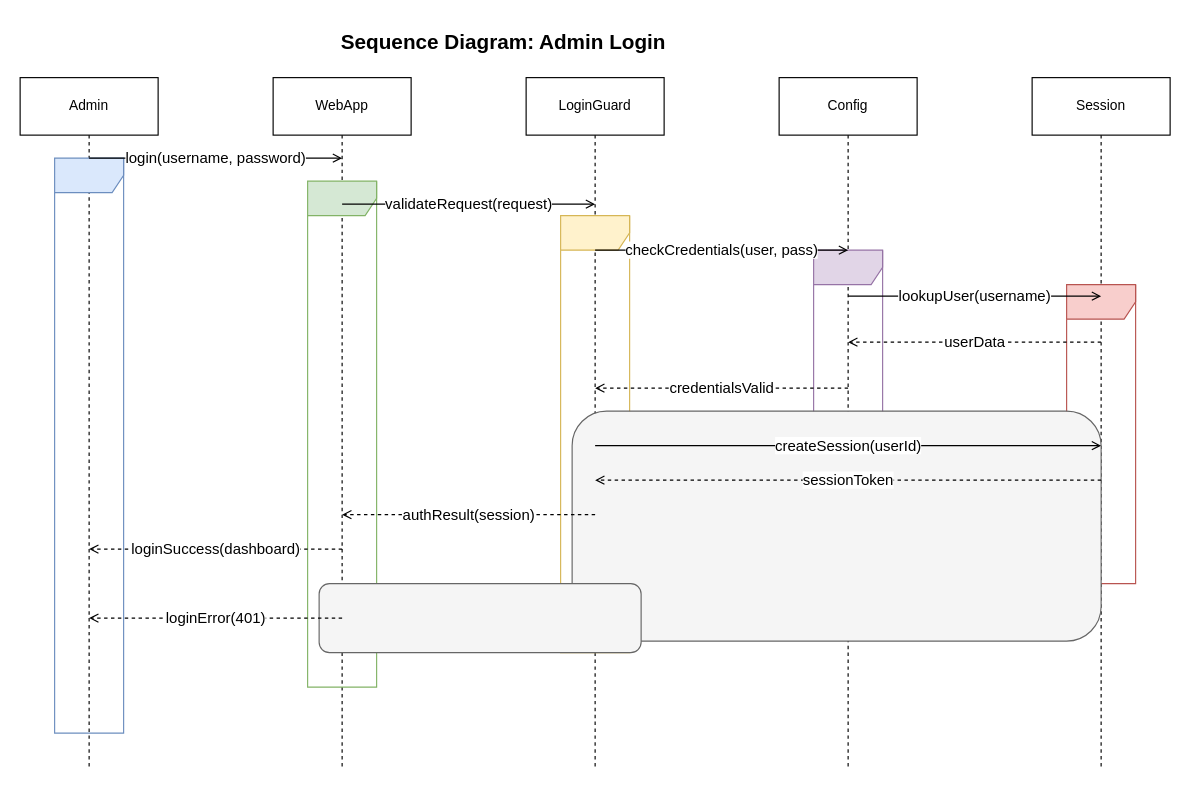
Some shapes in this 1190 by 788 pixel diagram are drawn without their labels. Each missing label, with the box of its shape:
[alt] credentials are valid: (571, 410, 1101, 641)
[else] credentials invalid: (318, 582, 641, 653)
